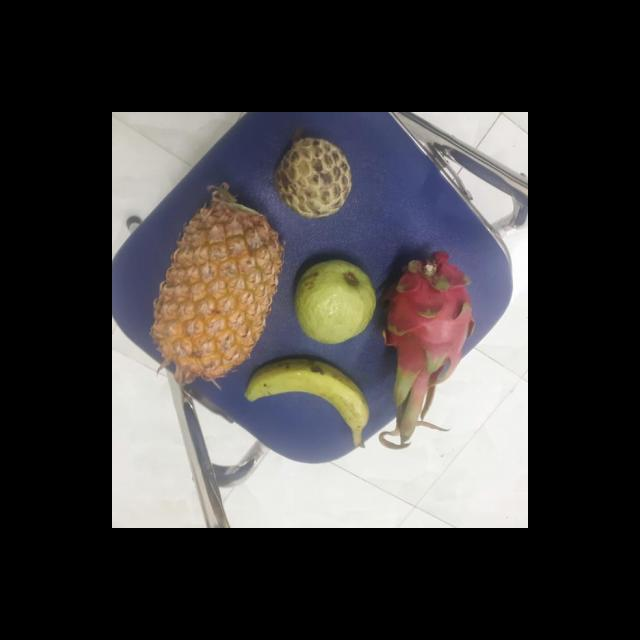Sakya fruit: (267, 133, 352, 220)
banana: (241, 358, 366, 437)
guava: (290, 260, 377, 344)
pineapple: (146, 188, 282, 380)
pitaya: (377, 259, 472, 402)
